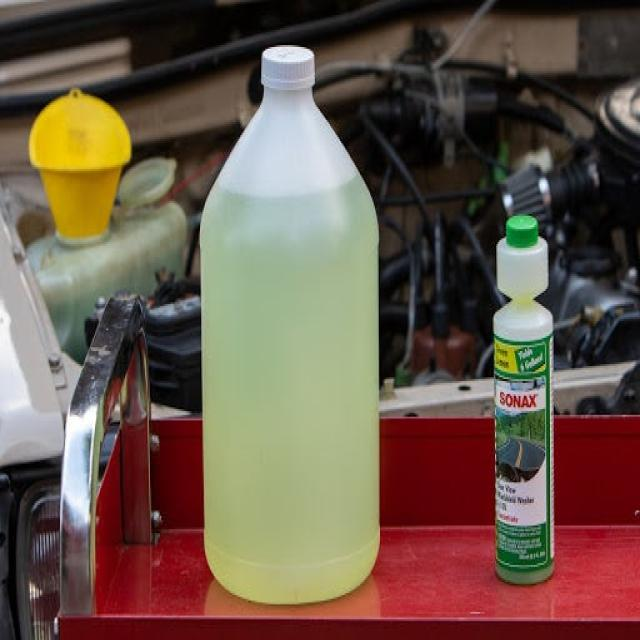winwinshield_washer: (492, 212, 556, 590)
